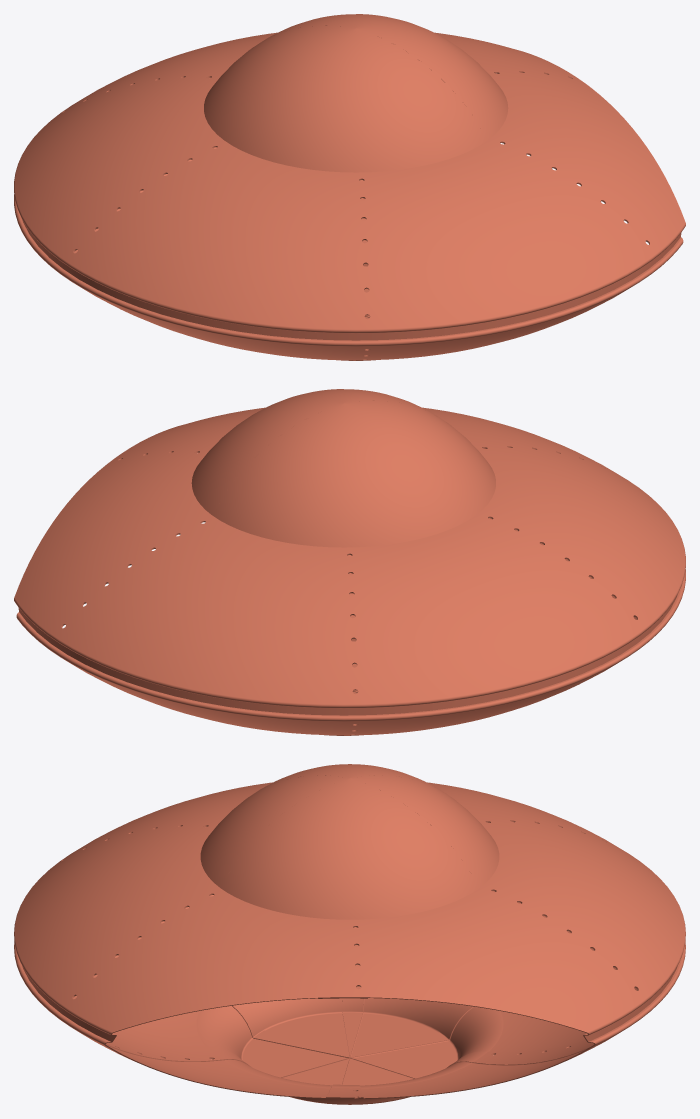
The model's file is ufo.glb.
3 views of the same model, one above another, from view 1: azimuth 30°, elevation 25°; view 2: azimuth 150°, elevation 25°; view 3: azimuth 270°, elevation 25° (orthographic).
Visible parts, largest first — view 1: Part1-1; view 2: Part1-1; view 3: Part1-1.
Part boxes in pixels (left/top/right/bottom): Part1-1: left=14, top=14, right=685, bottom=360; Part1-1: left=14, top=389, right=685, bottom=735; Part1-1: left=14, top=764, right=685, bottom=1104.
Bounding box in the file's own units: 1.66 × 0.866 × 1.88.
